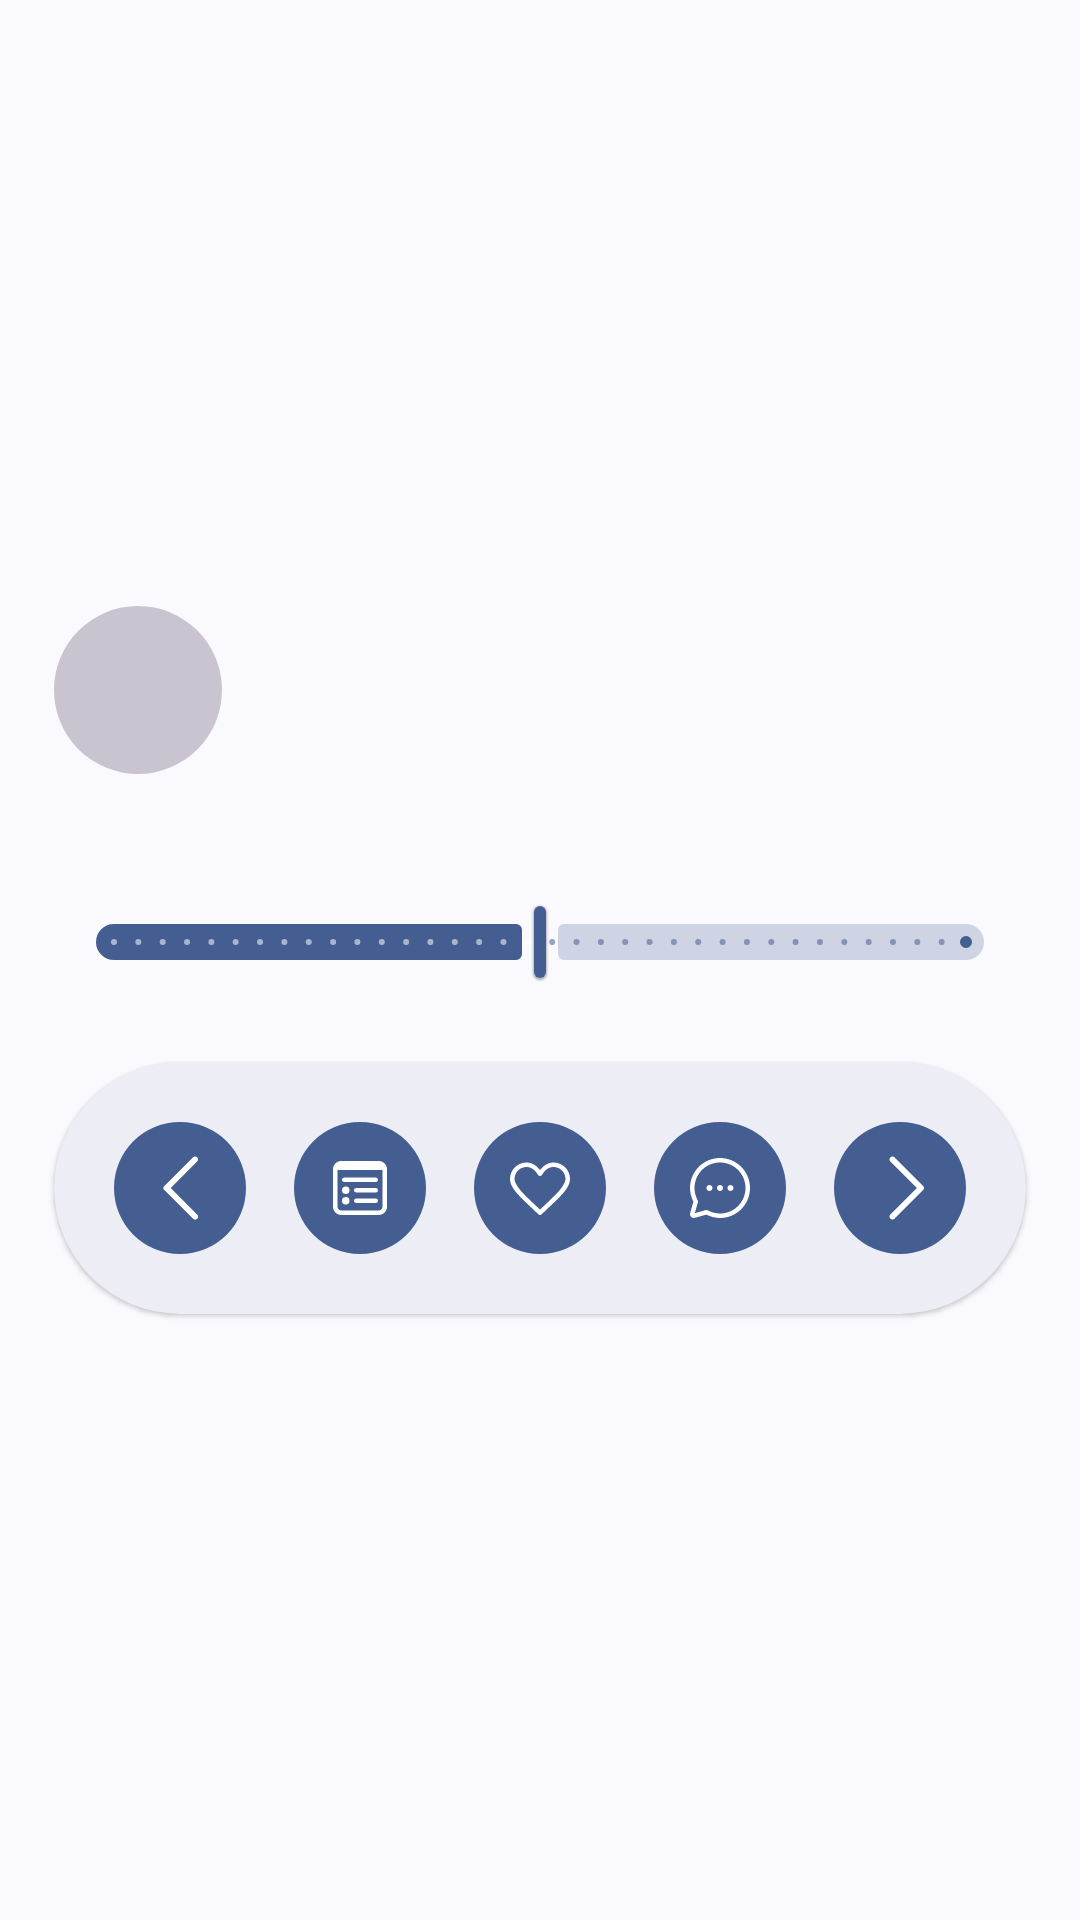

Where to tap for icons on this 1080 x 1920 app screen, as (x,y):
after: (900,1188)
before: (180,1188)
comment: (720,1188)
favorite: (540,1188)
list: (360,1188)
